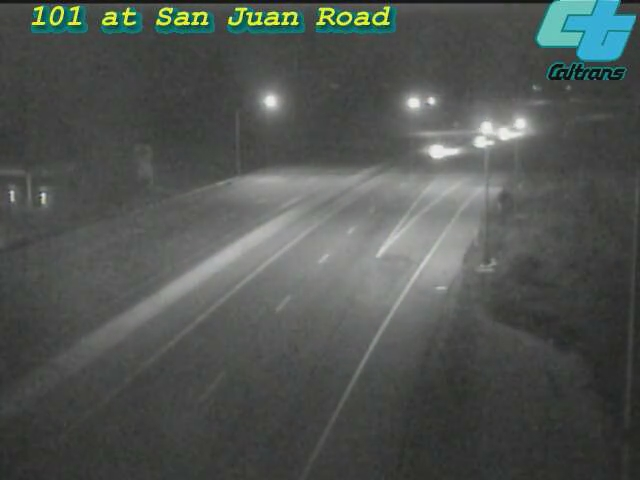vehicle: (457, 103, 507, 153), (488, 99, 538, 149), (479, 109, 529, 159), (455, 119, 505, 169), (414, 127, 464, 177)
